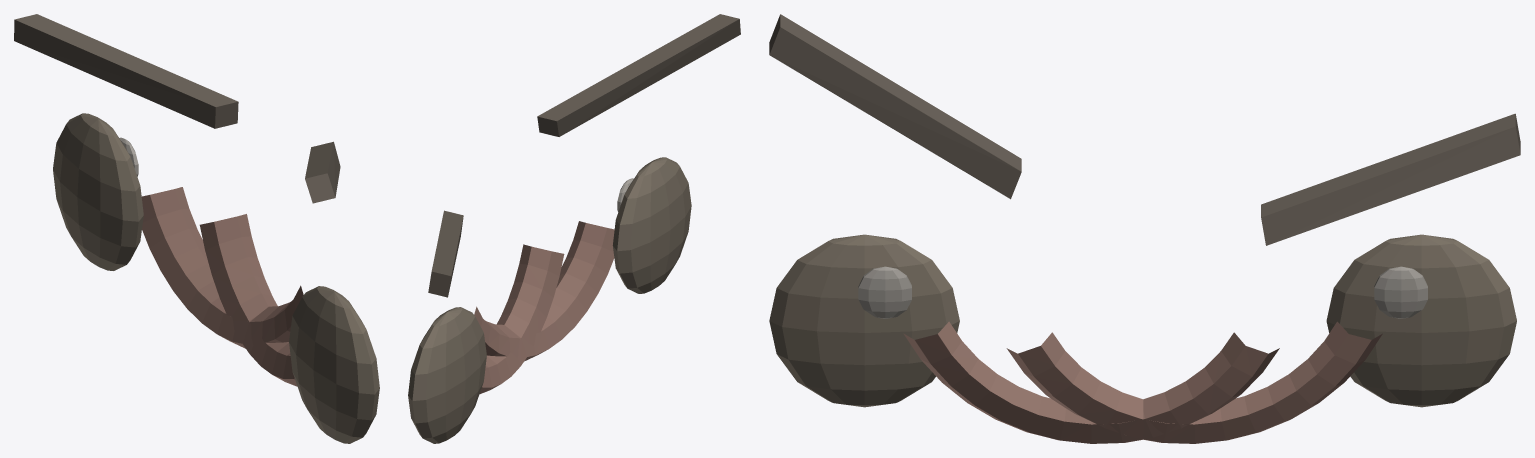
Rendered from wild.glb.
The picture shows the model from 3 angles, left to right: view 1: azimuth 30°, elevation 25°; view 2: azimuth 150°, elevation 25°; view 3: azimuth 270°, elevation 25°; orthographic projection. The views are drawn at different scales.
Visible parts, largest first — view 1: face-wild; view 2: face-wild; view 3: face-wild.
Boxes of the visible parts, x1,y1,x2,y2 form: face-wild: (14, 14, 379, 443); face-wild: (408, 14, 740, 443); face-wild: (769, 14, 1520, 443).
Bounding box in the file's own units: 0.0367 × 0.0796 × 0.1456.
